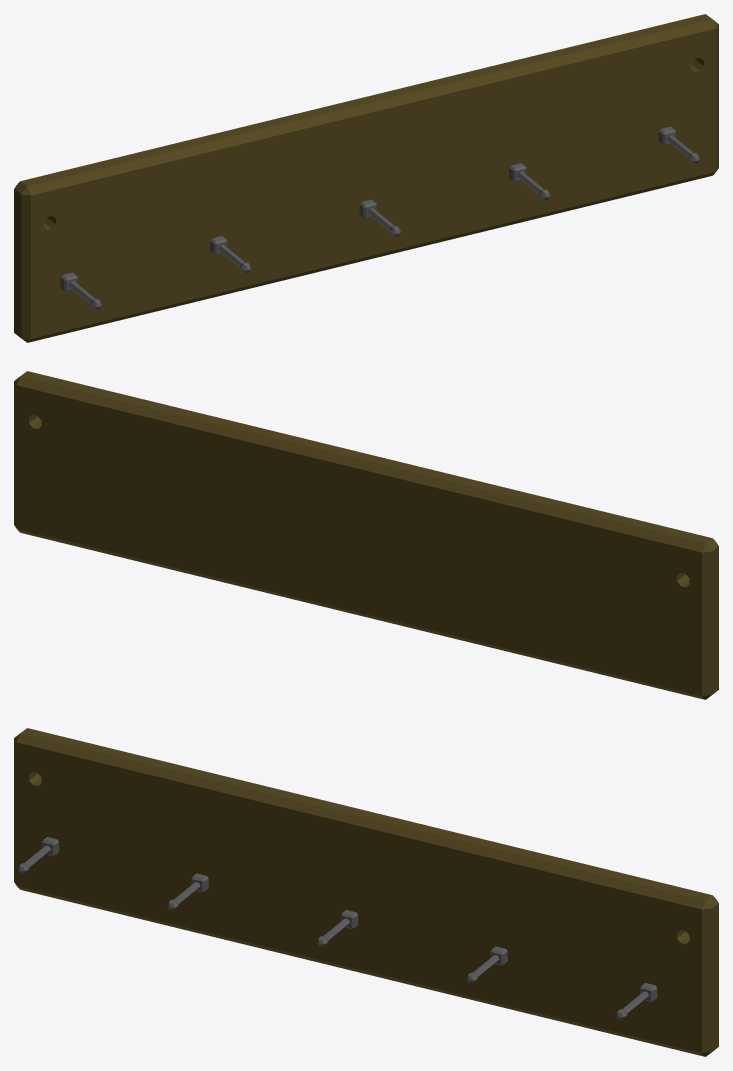
File: pa poner las cucharas esteee.fbx
3 renders of one model, top to bottom at view 1: azimuth 30°, elevation 25°; view 2: azimuth 150°, elevation 25°; view 3: azimuth 330°, elevation 25°, orthographic.
Parts seen in each view (by area): view 1: Tabla, Clavija_01, Clavija_05, Clavija_07, Clavija_09, Clavija_03; view 2: Tabla; view 3: Tabla, Clavija_03, Clavija_07, Clavija_01, Clavija_09, Clavija_05.
Boxes of the visible parts, bbox=[...] form: Tabla: bbox=[14, 14, 718, 342]; Clavija_01: bbox=[60, 272, 101, 309]; Clavija_05: bbox=[359, 199, 400, 236]; Clavija_07: bbox=[509, 163, 550, 200]; Clavija_09: bbox=[658, 126, 700, 163]; Clavija_03: bbox=[210, 236, 251, 273]; Tabla: bbox=[14, 371, 718, 699]; Tabla: bbox=[14, 728, 718, 1056]; Clavija_03: bbox=[167, 873, 208, 910]; Clavija_07: bbox=[466, 946, 507, 983]; Clavija_01: bbox=[17, 837, 59, 874]; Clavija_09: bbox=[615, 983, 657, 1020]; Clavija_05: bbox=[316, 910, 358, 947].
Size of the model in its own units: 112 by 24 by 12.99.
